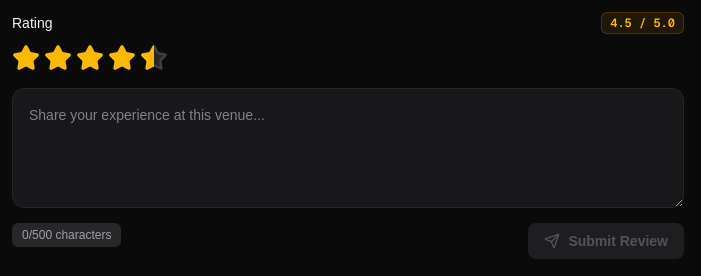
Test: VenueReviewForm Star Rating › Half-Star Increments (0.5 to 5.0) via Split Hit Regions › selects full star when clicking right half hit region
Click the button with test id "star-4-right" at (129, 58), box [122, 44, 136, 72]
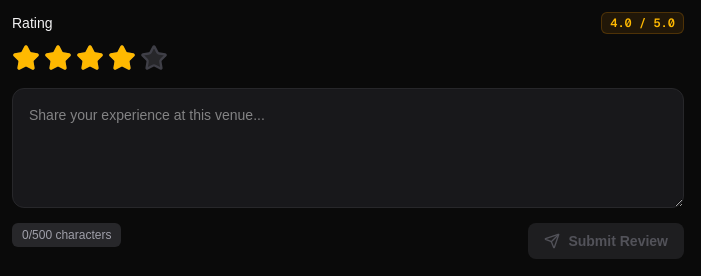
Check: the icon with test id "star-4-full" is shown, box [108, 44, 136, 72]
Check: the text with test id "rating-preview-text" reads "4.0 / 5.0", box [610, 15, 675, 31]
